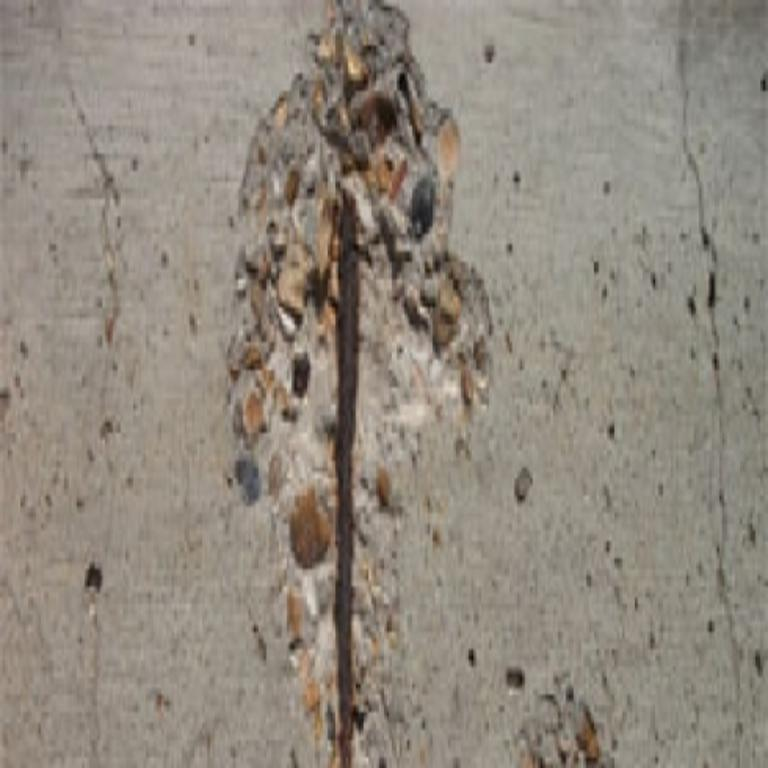exposed_rebar: (334, 190, 360, 768)
spalling: (230, 0, 489, 768)
